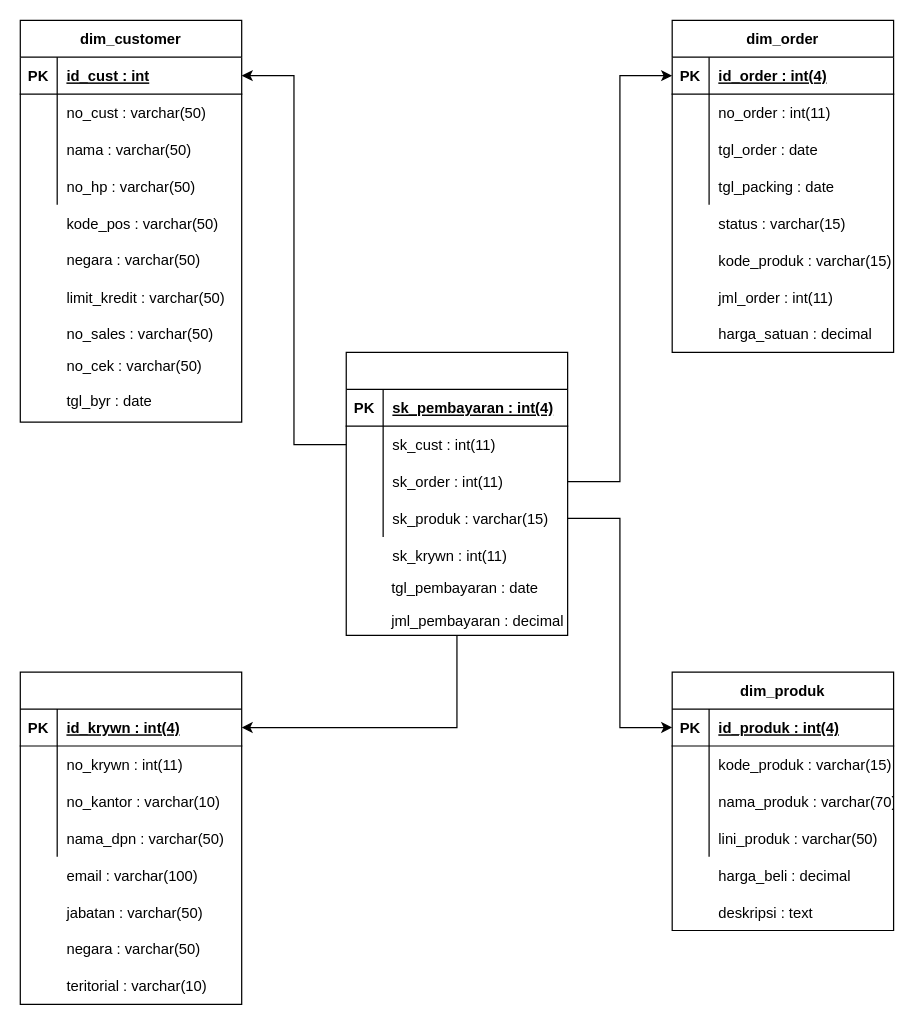
This 916x1025 diagram has some shape labels left out. The box of each missing label's shape, as (x1, y1, x2, y2) in pixels:
dim_karyawan: (19, 671, 242, 1004)
fact_pembayaran: (345, 351, 568, 635)
